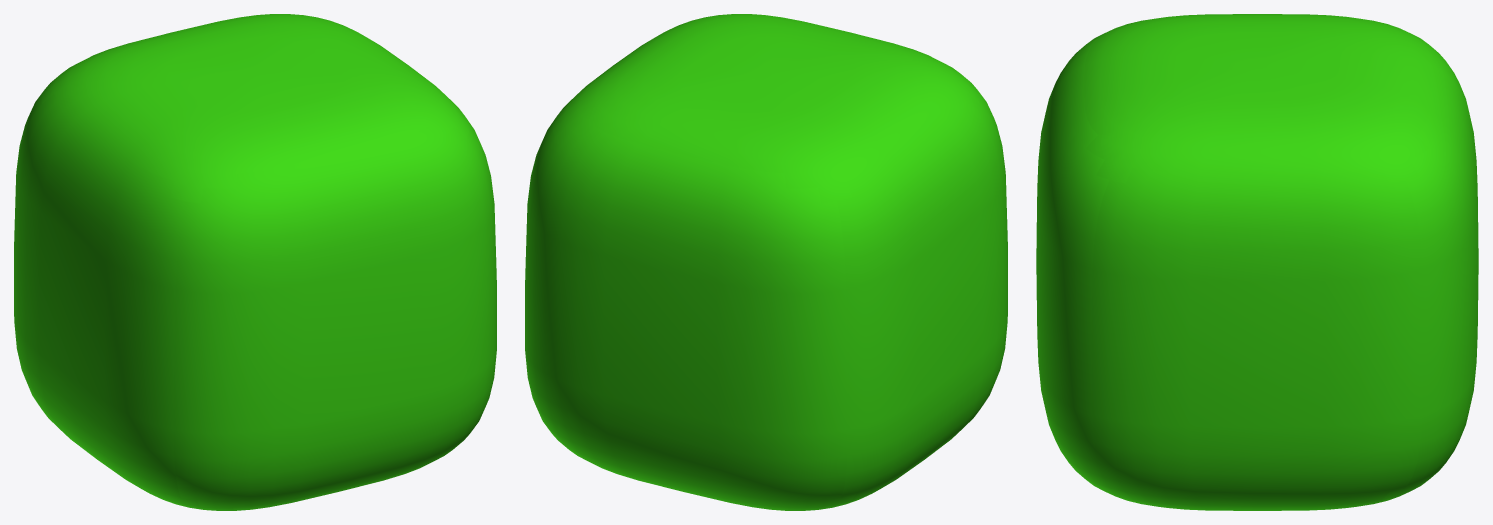
File: slime_green.glb
3 renders of one model, left to right at view 1: azimuth 30°, elevation 25°; view 2: azimuth 150°, elevation 25°; view 3: azimuth 270°, elevation 25°, orthographic. The views are drawn at different scales.
Parts seen in each view (by area): view 1: PlainCube_Green; view 2: PlainCube_Green; view 3: PlainCube_Green.
Part boxes in pixels (box(x1,y1,x2,y2)): PlainCube_Green: box(14, 14, 496, 510); PlainCube_Green: box(525, 14, 1007, 510); PlainCube_Green: box(1036, 14, 1478, 510).
Bounding box in the file's own units: 0.92 × 0.8968 × 0.92.
